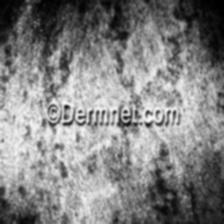Toxin: (42, 52, 76, 102)
